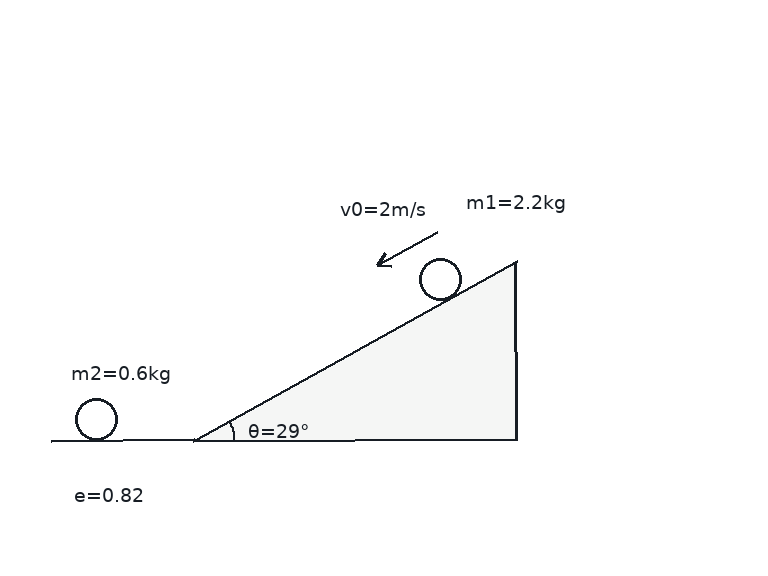ball: (417, 256, 463, 302), (73, 396, 119, 442)
ramp: (192, 260, 518, 442)
